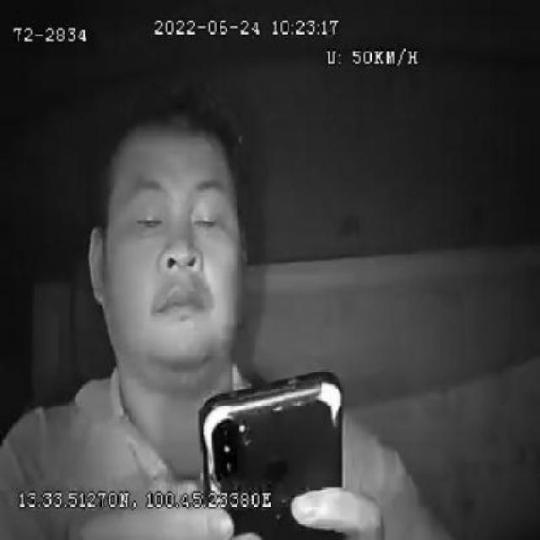phone: (194, 364, 346, 540)
